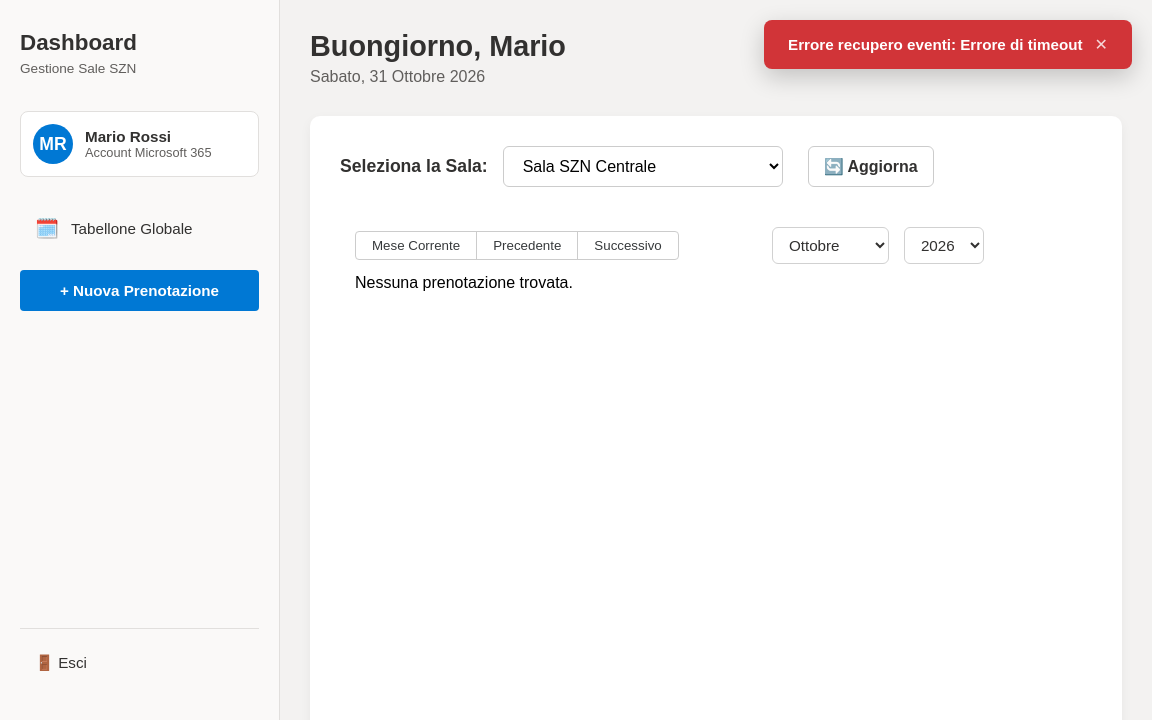
Test: API Error Handling & Resilience Tests › UI Visual Error Handling in App Component › dovrebbe consentire all'utente di chiudere la notifica Toast cliccando sulla X
This screenshot has width=1152, height=720.
Expected: the element with class "toast-error" is shown, [764,20,1132,69]
What coordinates should you click on to do the following:
click the button with class "toast-close"
I would click on:
 (1101, 44)
Its box is [1095,36,1108,52].
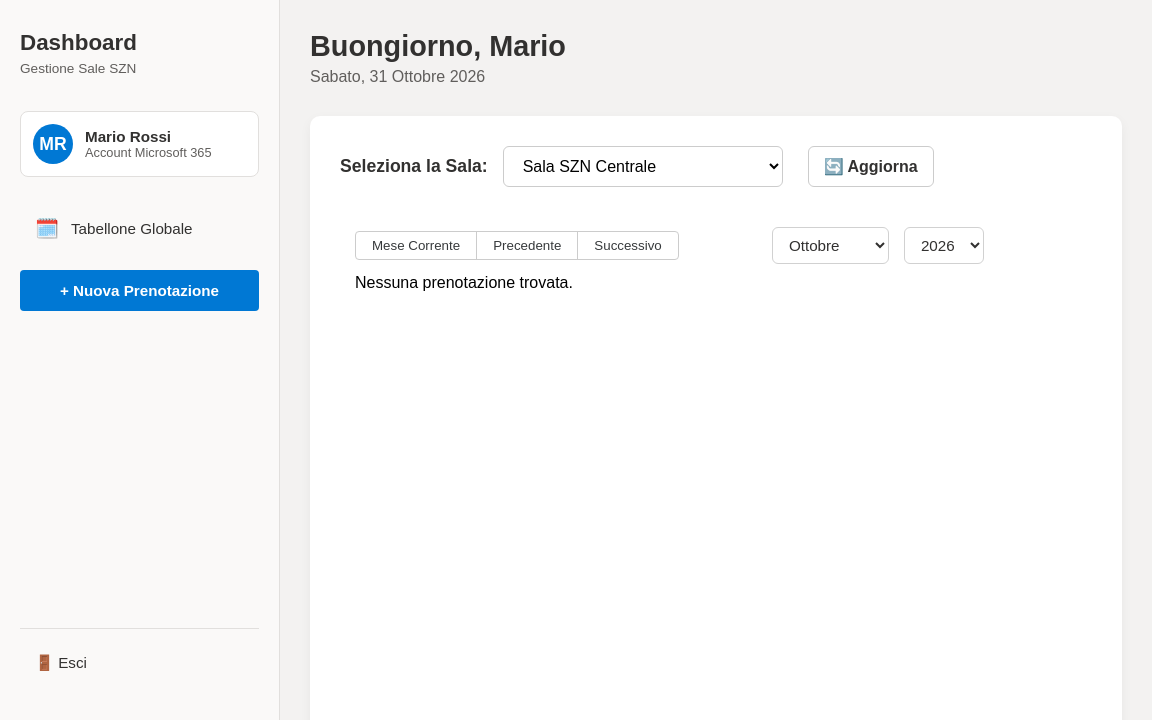
Expected: the element with class "toast-error" is gone
